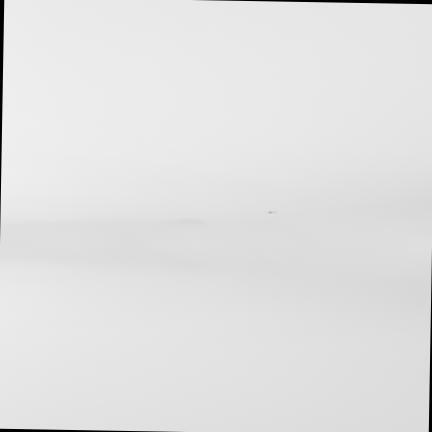Shahed: (265, 210, 276, 212)
